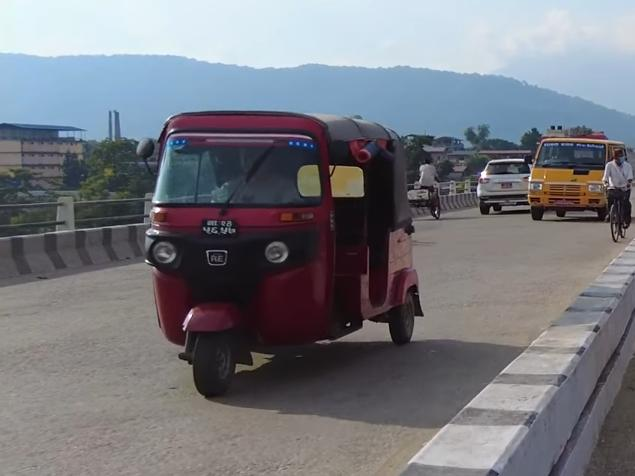auto_rickshaw: (132, 104, 433, 409)
car: (472, 153, 536, 219)
school_bus: (529, 136, 629, 222)
